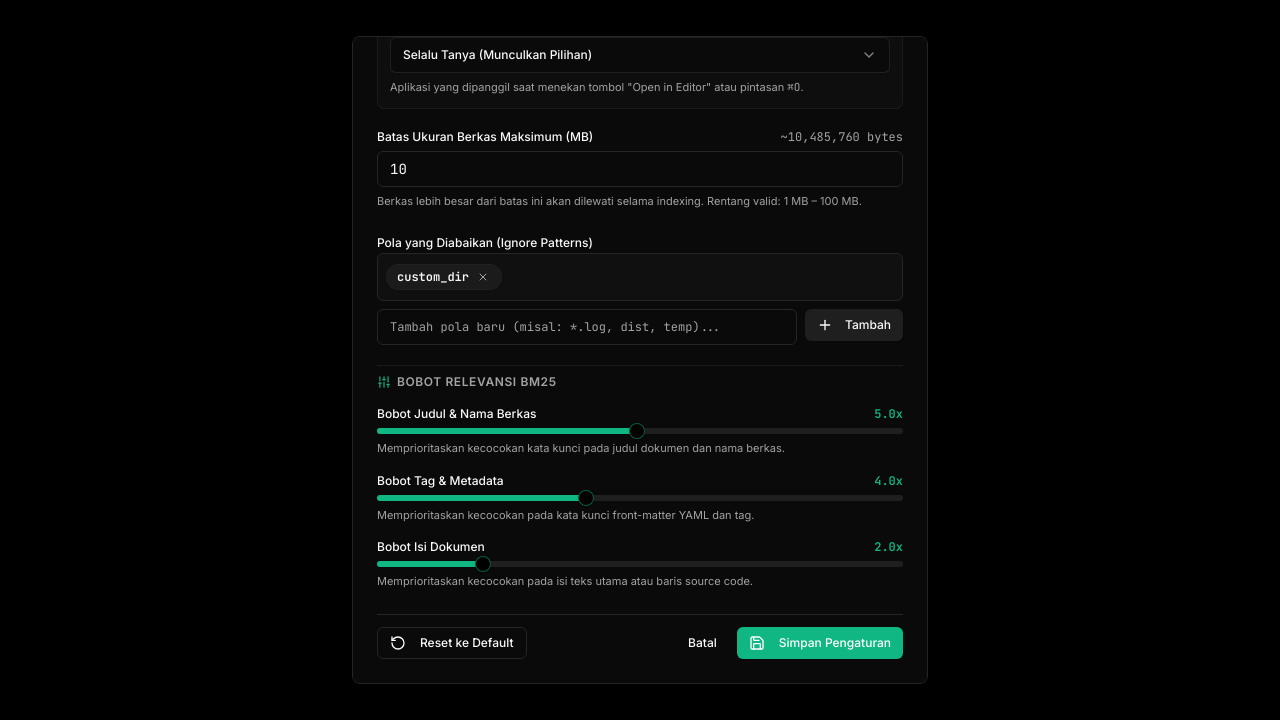
Test: SettingsModal › resets form state to default values on Reset button click
(page scrolled)
Check: the text "custom_dir" is shown, box [397, 269, 469, 285]
Check: the text "5.0x" is shown, box [874, 406, 903, 422]
Click the button "Reset ke Default" at (452, 642), box [377, 626, 526, 658]
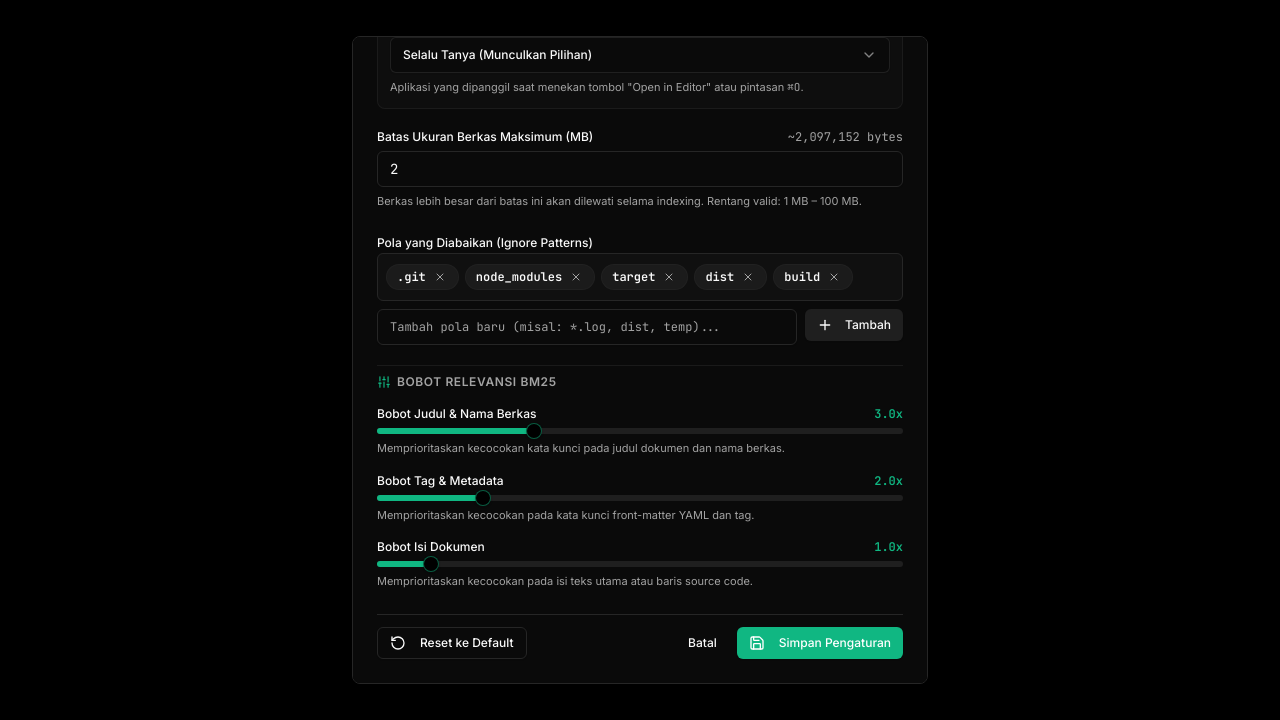
Check: the number field holds "2", box [377, 150, 903, 186]
Check: the text ".git" is shown, box [397, 269, 426, 285]
Check: the text "3.0x" is shown, box [874, 406, 903, 422]
